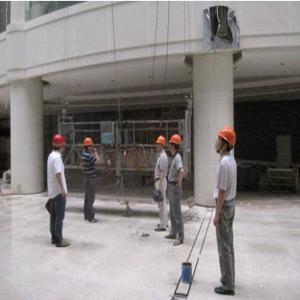red: (215, 125, 239, 156), (171, 134, 185, 156), (53, 135, 66, 155), (156, 136, 167, 154), (85, 138, 96, 154)
